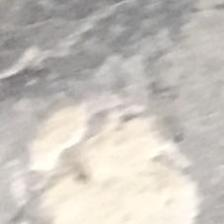Non_Crack: (13, 20, 224, 208)
